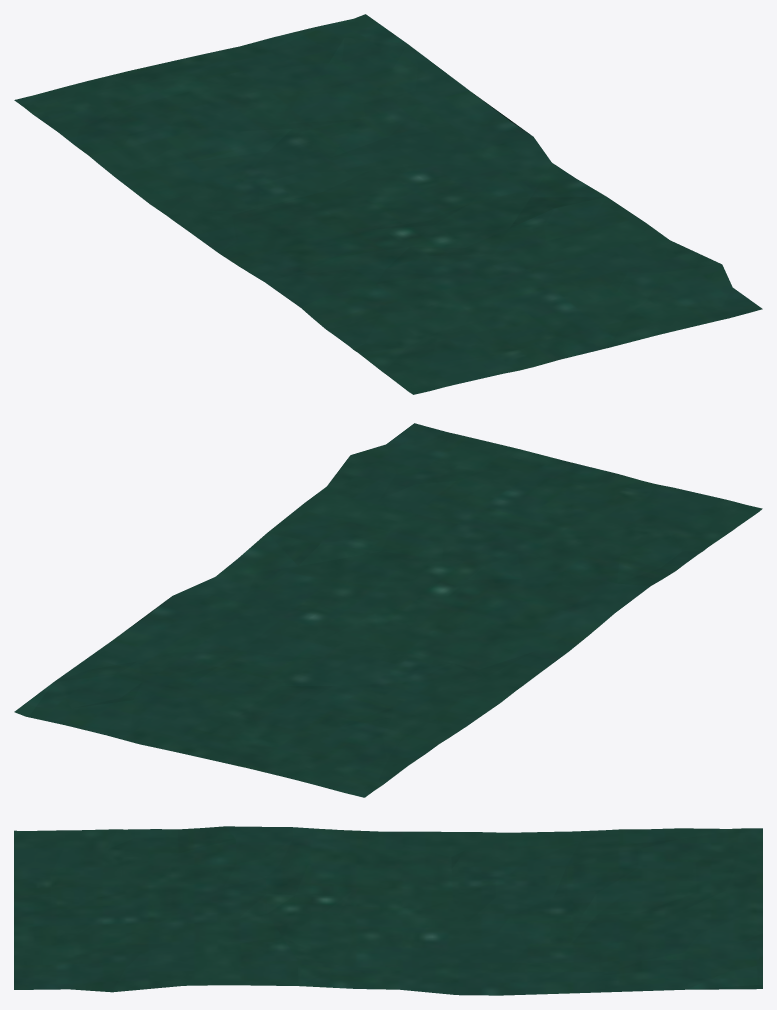
3 views of the same model, one above another, from view 1: azimuth 30°, elevation 25°; view 2: azimuth 150°, elevation 25°; view 3: azimuth 270°, elevation 25° (orthographic). The views are drawn at different scales.
Bounding box in the file's own units: 27.27 × 0.5912 × 52.22.
Materials: 1 (1 with a texture image).
